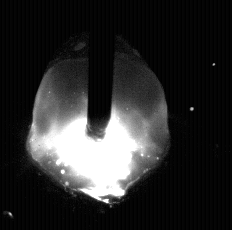arame: (87, 0, 113, 140)
poca: (27, 0, 172, 230)
